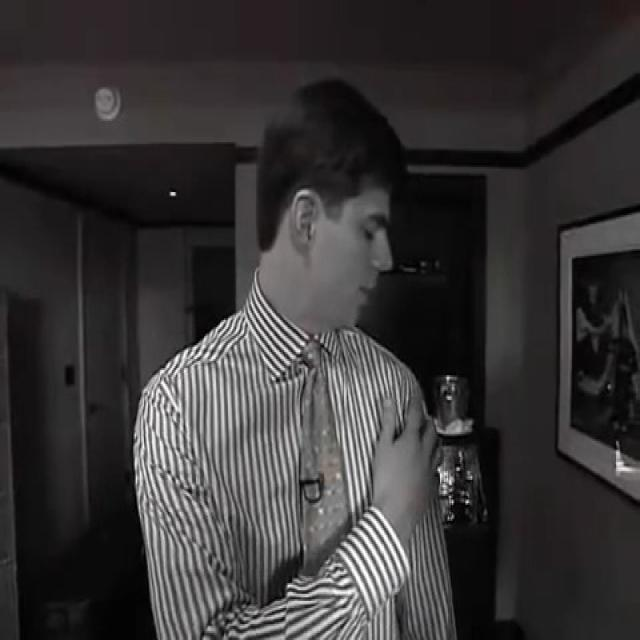Shirt: (132, 265, 457, 640)
